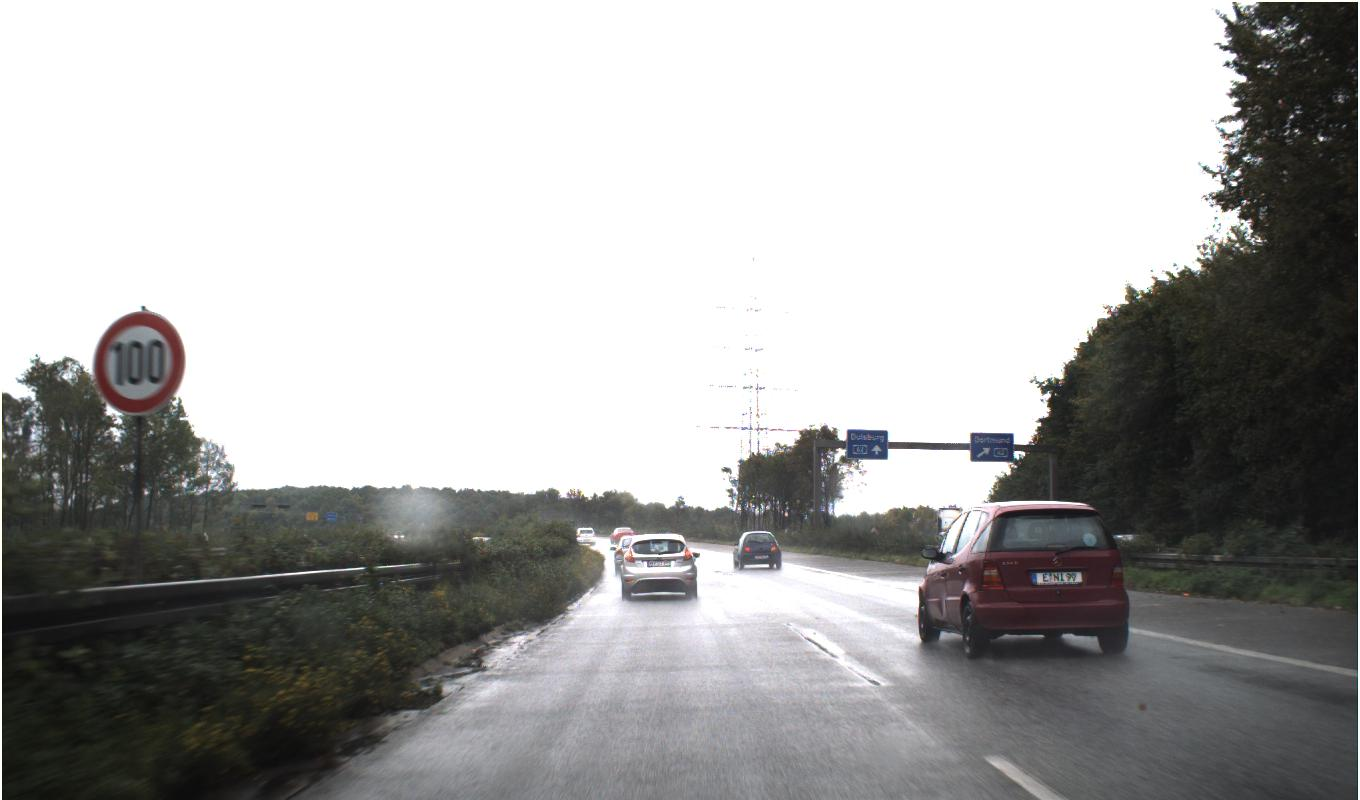prohibitory: (91, 308, 185, 416)
